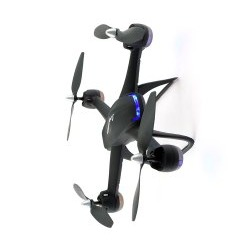drone: (64, 23, 196, 230)
